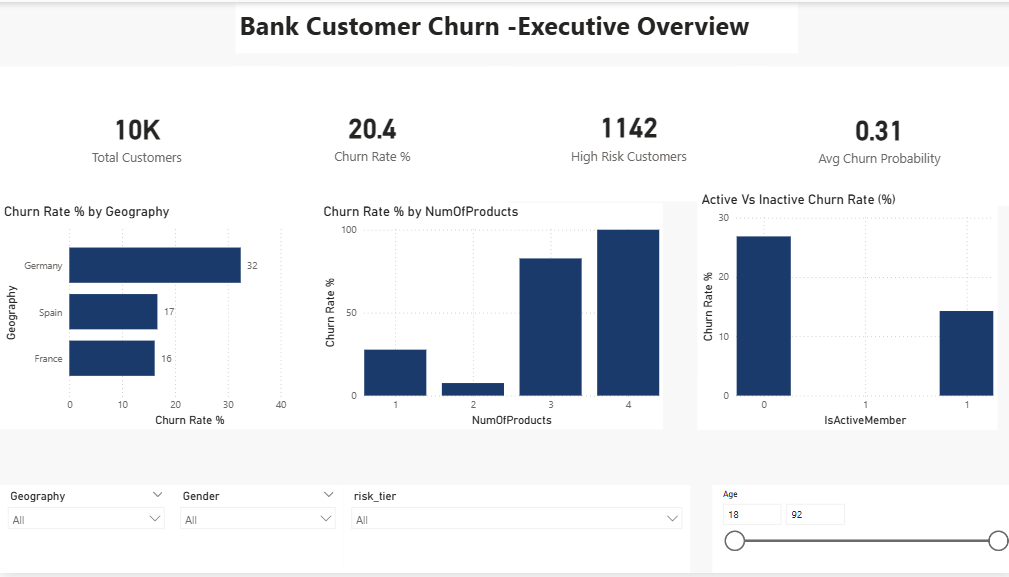

The page's visual inventory and layout, read from the dashboard file:
{"tool":"powerbi","page":{"name":"Executive Overview","canvas":[1280,720],"ordinal":0},"visuals":[{"type":"card","fields":{"Values":["customers_scored.Total Customers"]},"box":[0,81.3,343.9,173.9],"z":0},{"type":"card","fields":{"Values":["customers_scored.Churn Rate %"]},"box":[296.7,81.3,343.9,172],"z":1000},{"type":"card","fields":{"Values":["customers_scored.High Risk Customers"]},"box":[619.8,81.3,343.9,170.1],"z":2000},{"type":"card","fields":{"Values":["customers_scored.Avg Churn Probability"]},"box":[935.4,81.3,343.9,175.7],"z":3000},{"type":"clusteredBarChart","fields":{"Category":["customers_scored.Geography"],"Y":["customers_scored.Churn Rate %"]},"box":[0,253.2,402.5,285.4],"z":4000},{"type":"clusteredColumnChart","fields":{"Category":["customers_scored.NumOfProducts"],"Y":["customers_scored.Churn Rate %"]},"box":[402.5,253.2,432.8,285.4],"z":5000},{"type":"clusteredColumnChart","title":"Active Vs Inactive Churn Rate (%)","fields":{"Category":["customers_scored.IsActiveMember"],"Y":["customers_scored.Churn Rate %"]},"box":[878.7,238.1,378,300.5],"z":6000},{"type":"slicer","fields":{"Values":["customers_scored.Geography"]},"box":[0,608.5,217.3,111.5],"z":6001},{"type":"slicer","fields":{"Values":["customers_scored.Gender"]},"box":[217.3,608.5,215.4,111.5],"z":6002},{"type":"slicer","fields":{"Values":["customers_scored.risk_tier"]},"box":[432.8,608.5,436.5,111.5],"z":6003},{"type":"slicer","fields":{"Values":["customers_scored.Age"]},"box":[897.6,608.5,381.7,111.5],"z":6004},{"type":"textbox","box":[296.7,1.9,708.7,62.4],"z":6005}]}

Visuals, with their boxes in screenshot pixels (x1, y1, x2, y2), scaled from the page's 1280x720 canvas onto the 1009x577 screenshot:
card - customers_scored.Total Customers: (left=0, top=65, right=271, bottom=205)
card - customers_scored.Churn Rate %: (left=234, top=65, right=505, bottom=203)
card - customers_scored.High Risk Customers: (left=489, top=65, right=760, bottom=201)
card - customers_scored.Avg Churn Probability: (left=737, top=65, right=1008, bottom=206)
clusteredBarChart - customers_scored.Geography x customers_scored.Churn Rate %: (left=0, top=203, right=317, bottom=432)
clusteredColumnChart - customers_scored.NumOfProducts x customers_scored.Churn Rate %: (left=317, top=203, right=658, bottom=432)
"Active Vs Inactive Churn Rate (%)" clusteredColumnChart: (left=693, top=191, right=991, bottom=432)
slicer - customers_scored.Geography: (left=0, top=488, right=171, bottom=576)
slicer - customers_scored.Gender: (left=171, top=488, right=341, bottom=576)
slicer - customers_scored.risk_tier: (left=341, top=488, right=685, bottom=576)
slicer - customers_scored.Age: (left=708, top=488, right=1008, bottom=576)
textbox: (left=234, top=2, right=793, bottom=52)
